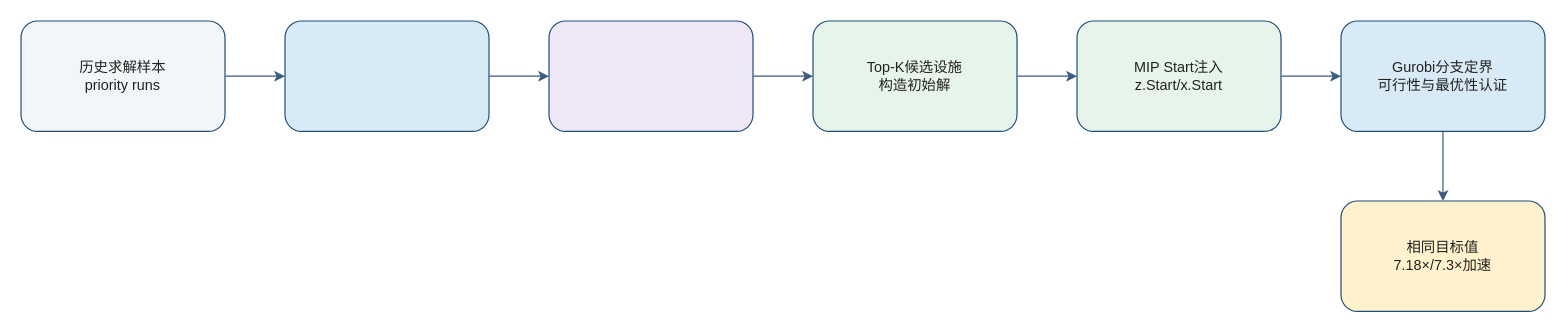
The diagram is 1566 pixels wide and 332 high, and some of its shapes have lost their labels. Here are the shapes that lost their labels. From the top down, the centre of each, then its label:
the point at 386,75: 节点结构特征 产量/距离/中心性
the point at 650,75: XGBoost排序器 开放概率预测
